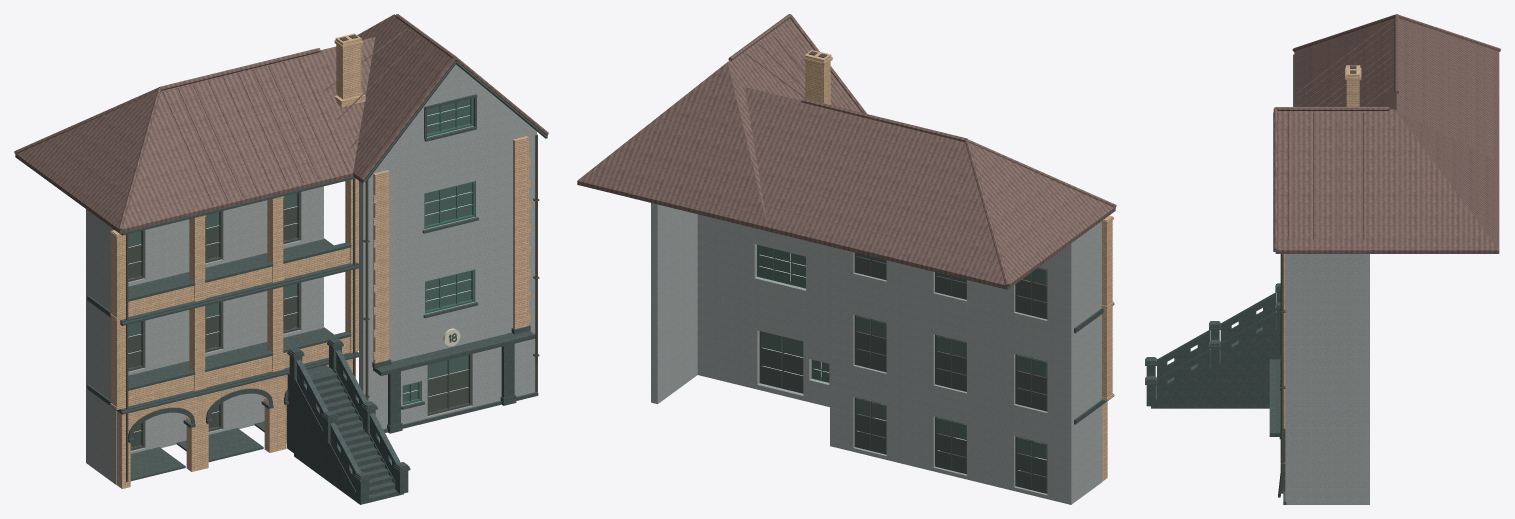
File: lod-source.glb
The picture shows the model from 3 angles, left to right: view 1: azimuth 30°, elevation 25°; view 2: azimuth 150°, elevation 25°; view 3: azimuth 270°, elevation 25°; orthographic projection. The views are drawn at different scales.
Visible parts, largest first — view 1: 董竹君旧居18号楼南面券廊与题号山墙; view 2: 董竹君旧居18号楼南面券廊与题号山墙; view 3: 董竹君旧居18号楼南面券廊与题号山墙.
Boxes of the visible parts, left/top/right/bottom form: 董竹君旧居18号楼南面券廊与题号山墙: left=14, top=14, right=548, bottom=504; 董竹君旧居18号楼南面券廊与题号山墙: left=577, top=14, right=1116, bottom=504; 董竹君旧居18号楼南面券廊与题号山墙: left=1145, top=14, right=1500, bottom=504.
Size of the model in its own units: 17.89 by 15.03 by 13.39.
Materials: 10 (4 with a texture image).
